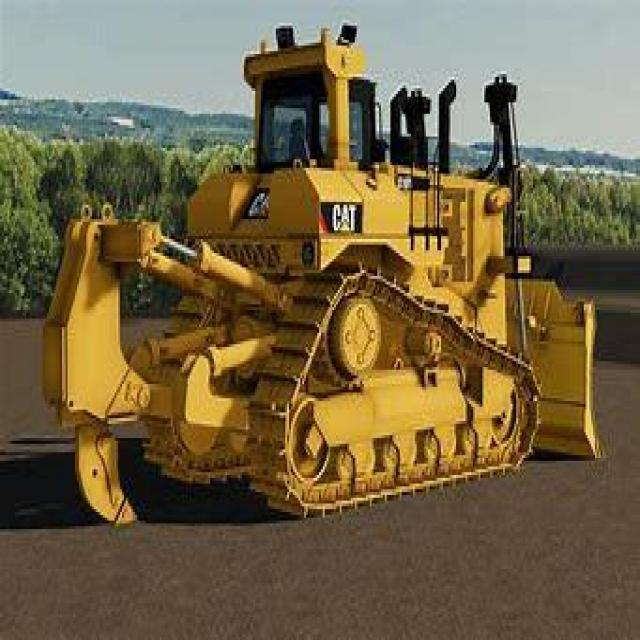Bulldozer: (43, 20, 603, 526)
